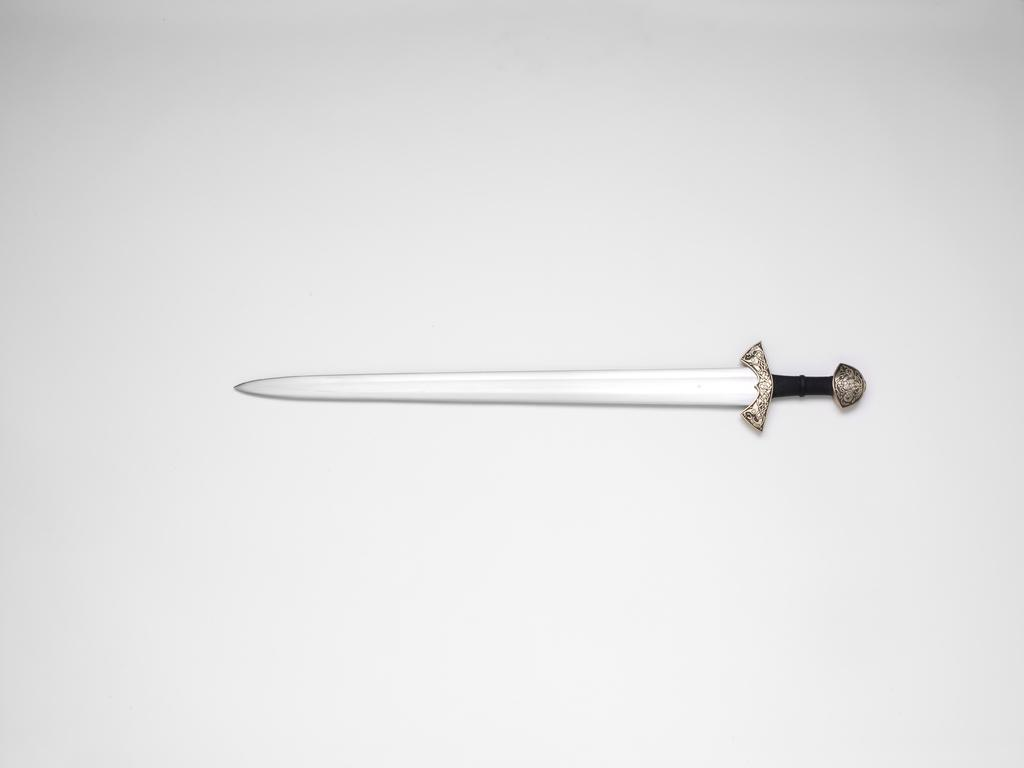Sword: (230, 339, 868, 431)
